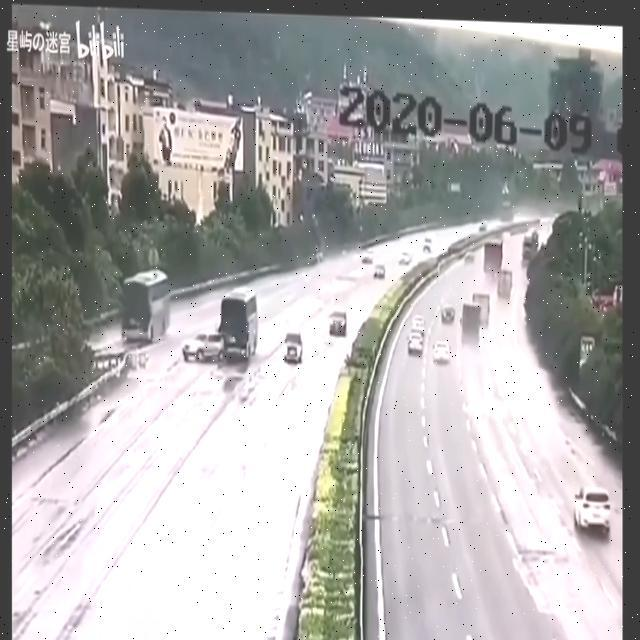multiple_accident: (179, 286, 278, 381)
normal: (569, 483, 619, 544)
